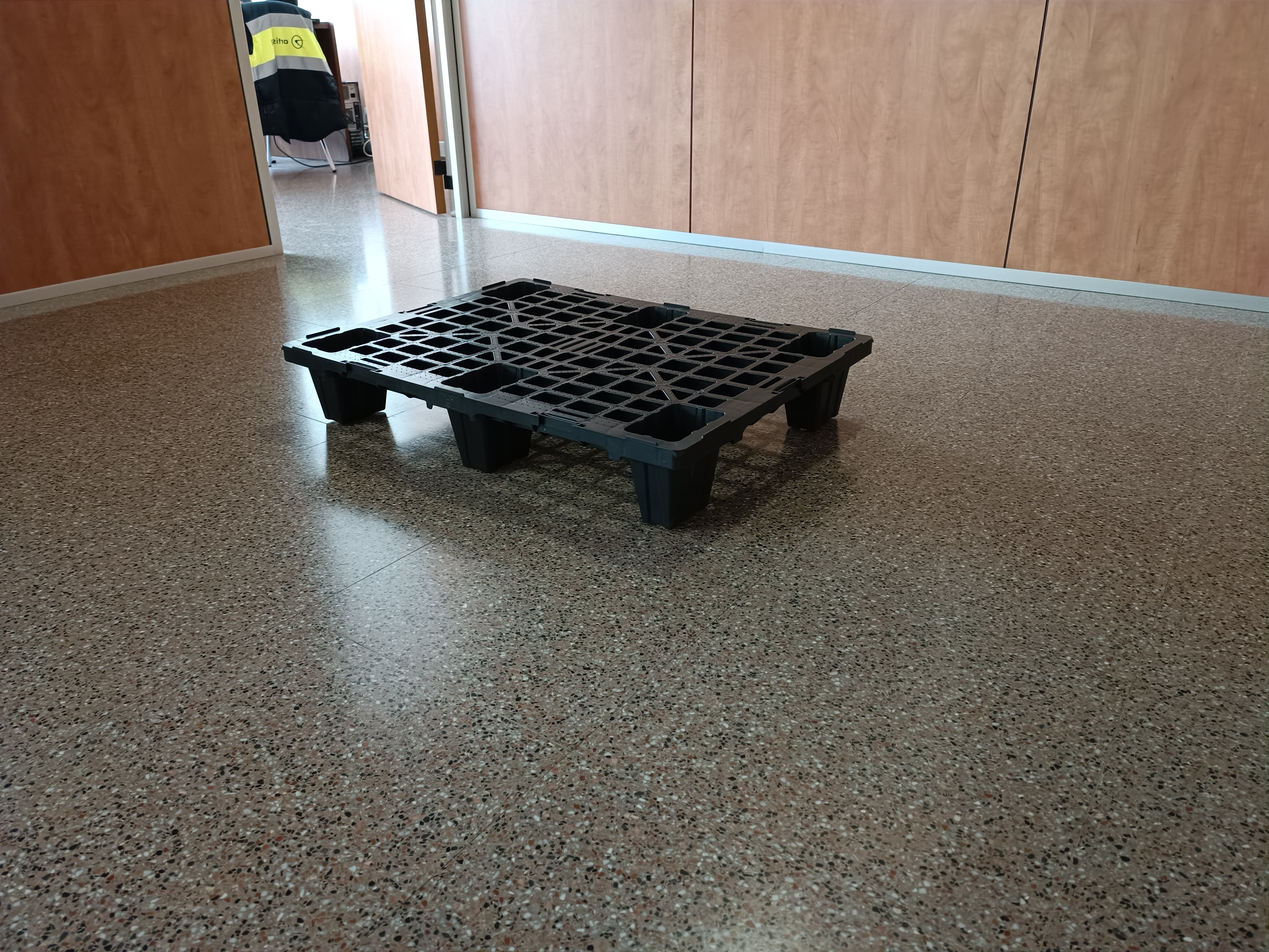block: (627, 430, 722, 527), (443, 390, 529, 475), (782, 353, 859, 428), (292, 348, 352, 426)
front: (279, 341, 676, 522)
hole pallet: (489, 419, 641, 520), (344, 376, 463, 467)
